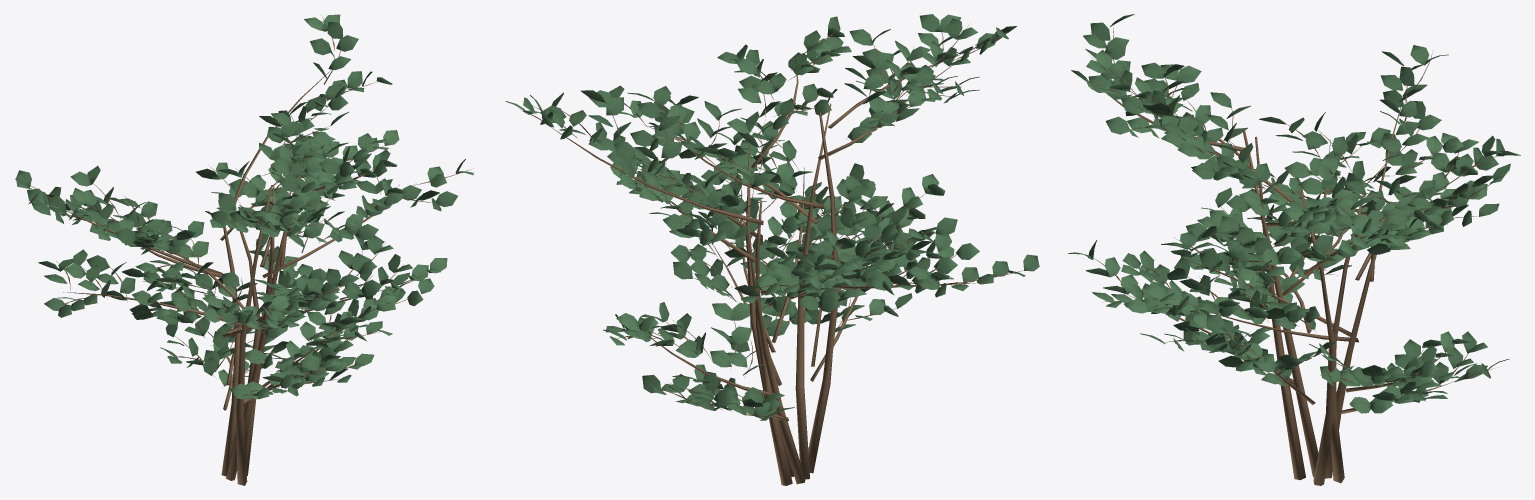
Rendered from Myrte_0_LOD1.fbx.
3 renders of one model, left to right at view 1: azimuth 30°, elevation 25°; view 2: azimuth 150°, elevation 25°; view 3: azimuth 270°, elevation 25°, orthographic. The views are drawn at different scales.
Visible parts, largest first — view 1: Myrte_0_LOD1; view 2: Myrte_0_LOD1; view 3: Myrte_0_LOD1.
Part boxes in pixels (left/top/right/bottom): Myrte_0_LOD1: left=15, top=14, right=473, bottom=485; Myrte_0_LOD1: left=505, top=14, right=1039, bottom=485; Myrte_0_LOD1: left=1068, top=14, right=1520, bottom=485.
Size of the model in its own units: 224 by 193 by 191.
